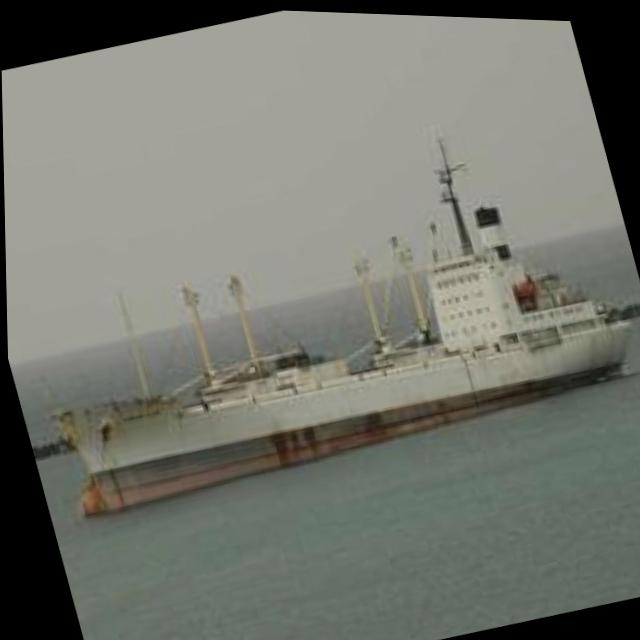ship2: (53, 134, 631, 517)
